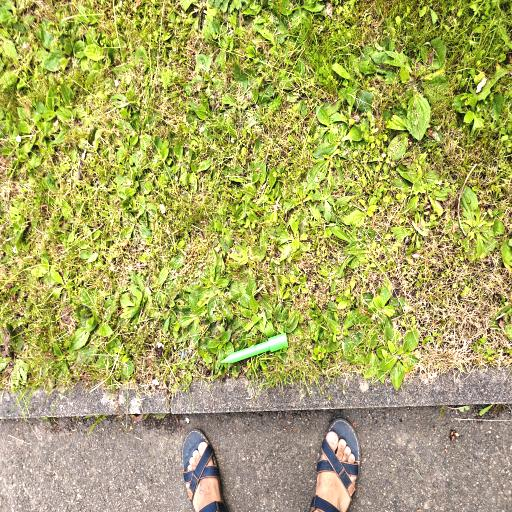Probe-Detection: (222, 333, 288, 364)
